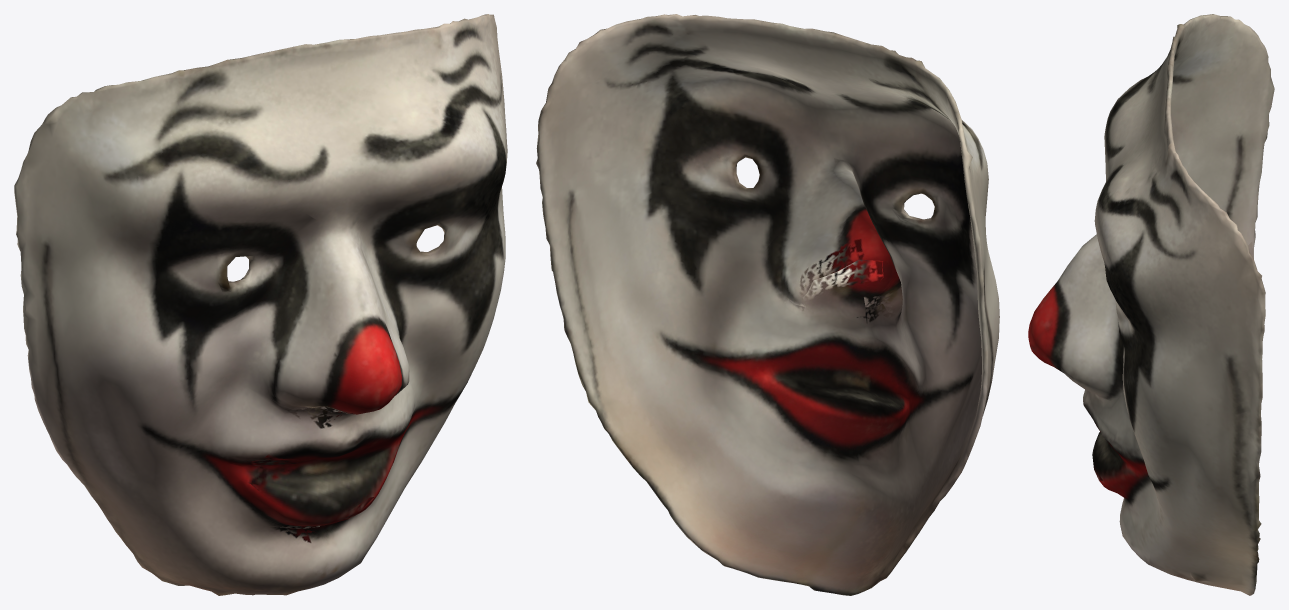
File: scary_clown_mask.glb
3 views of the same model, side by side, from view 1: azimuth 30°, elevation 25°; view 2: azimuth 150°, elevation 25°; view 3: azimuth 270°, elevation 25° (orthographic). The views are drawn at different scales.
Parts seen in each view (by area): view 1: geo1; view 2: geo1; view 3: geo1.
Part boxes in pixels (left/top/right/bottom): geo1: left=14, top=14, right=507, bottom=595; geo1: left=536, top=14, right=999, bottom=595; geo1: left=1028, top=14, right=1274, bottom=595.
Bounding box in the file's own units: 0.1788 × 0.2002 × 0.0886.
Materials: 1 (1 with a texture image).
